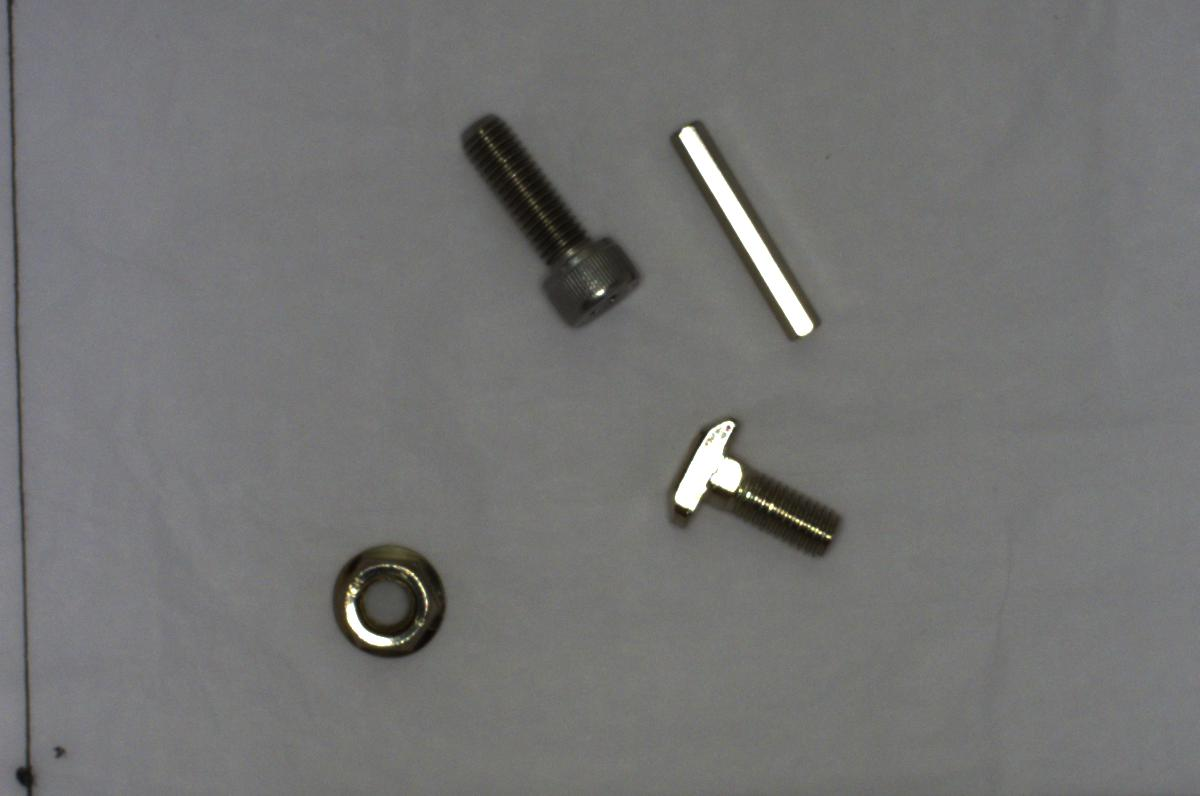Double hexagonal column: (662, 114, 828, 353)
Flange nut: (324, 536, 453, 662)
Hexagon screw: (453, 107, 648, 336)
T-shaped screw: (652, 409, 847, 567)
